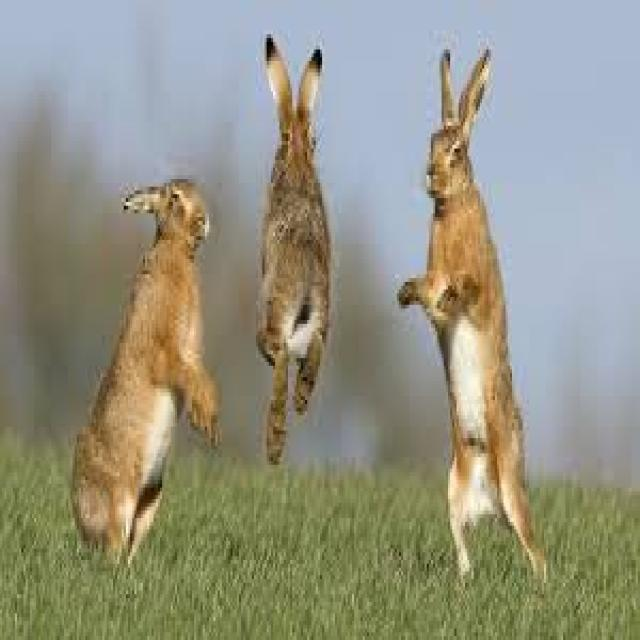Hare: (399, 35, 557, 599), (66, 153, 223, 569), (250, 26, 339, 462)
